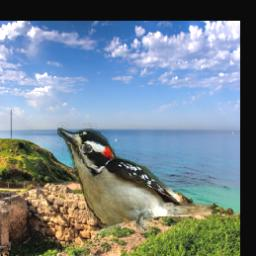Woodpecker: (57, 123, 212, 233)
